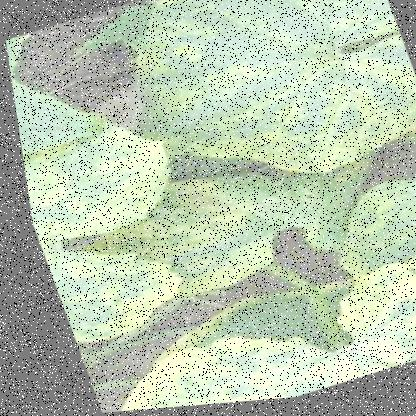DownyMildew: (146, 0, 415, 198), (107, 286, 415, 411), (18, 141, 195, 342)
